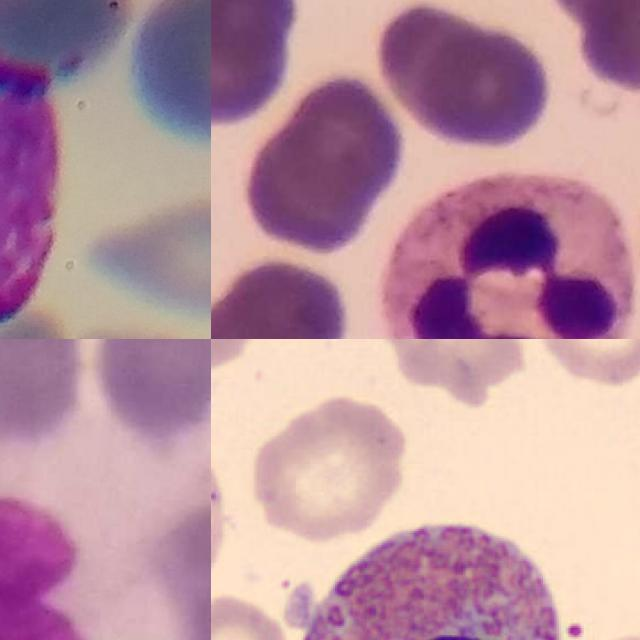Basophil: (0, 42, 62, 339)
Eosinophil: (283, 501, 583, 640)
Monocyte: (0, 490, 141, 640)
Neutrophil: (385, 173, 636, 339)
RBC: (246, 390, 410, 543), (372, 339, 535, 407), (530, 339, 640, 390), (211, 339, 265, 377)
